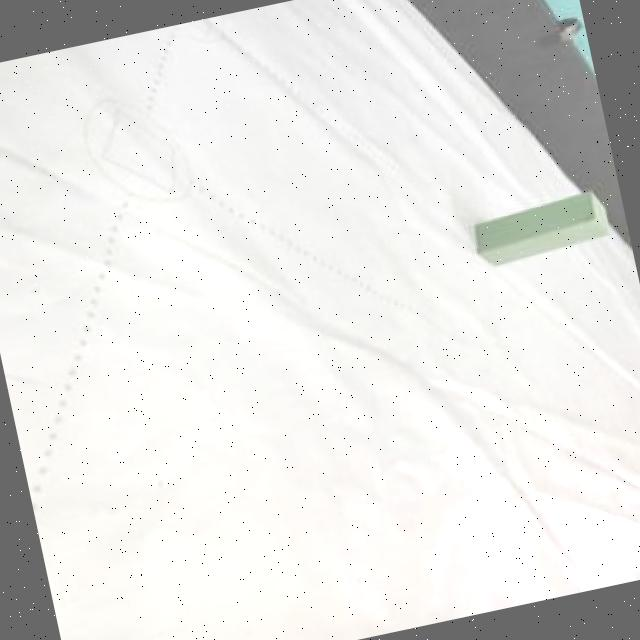greenbox: (469, 184, 618, 270)
